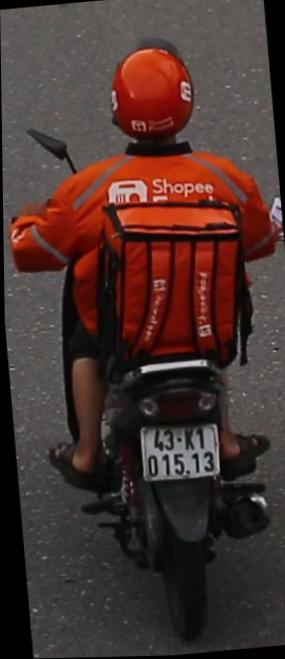LP: (130, 410, 228, 492)
helmet: (91, 24, 216, 178)
